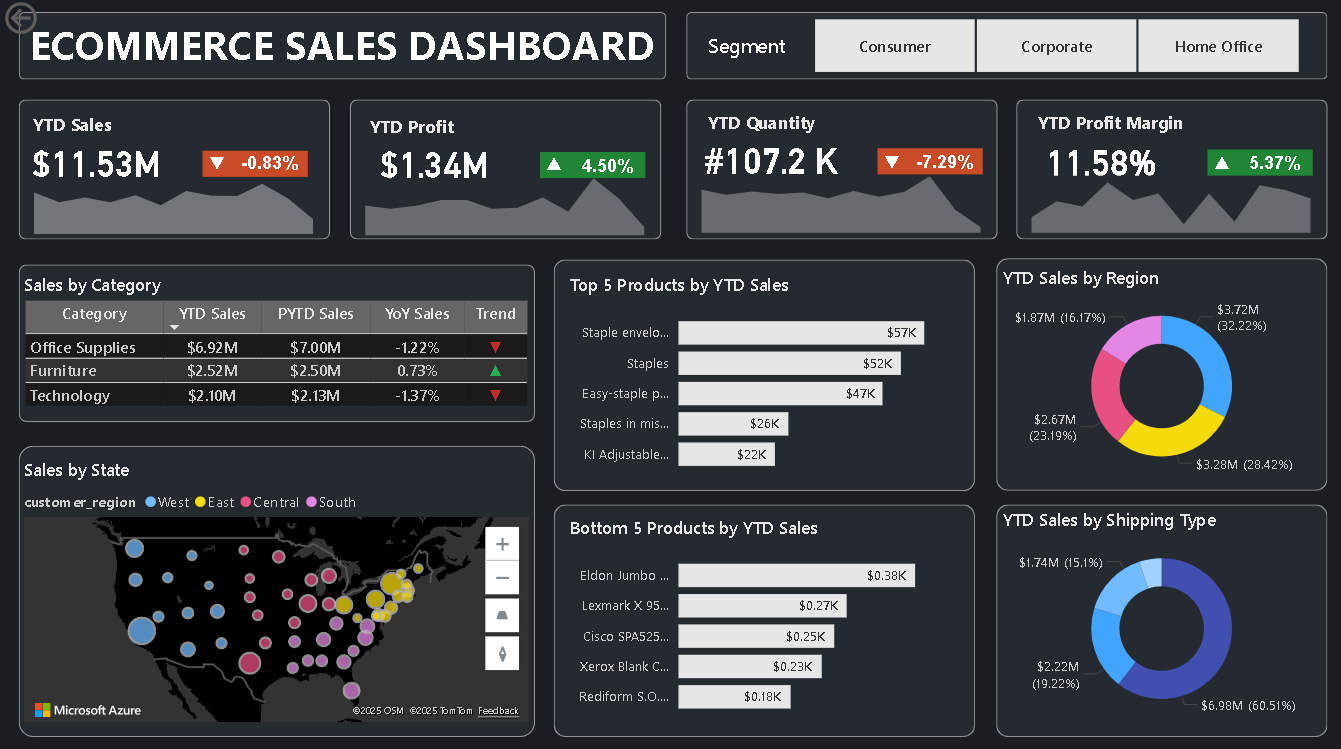

This screenshot's page, from the dashboard's own definition file:
{"tool":"powerbi","page":{"name":"Ecommerce Sales Dashboard","canvas":[1280,720],"ordinal":0},"visuals":[{"type":"shape","box":[17.8,14.2,615,64.1],"z":0},{"type":"textbox","box":[23.7,15.4,604.4,62.9],"z":1000},{"type":"shape","box":[17.8,97.4,295.7,133],"z":2000},{"type":"card","fields":{"Values":["ecommerce_data.YTD Sales"]},"box":[17.8,136.5,147.2,39.2],"z":3000},{"type":"areaChart","fields":{"Y":["Sum(ecommerce_data.sales_per_order)"],"Category":["Calendar.Month"]},"box":[17.8,155.5,294.5,74.8],"z":4000},{"type":"shape","box":[192.4,146,99.7,24.9],"z":5000},{"type":"actionButton","box":[0,0,100,40],"z":6000},{"type":"card","fields":{"Values":["ecommerce_data.YoY Sales"]},"box":[222,142.5,70.1,33.2],"z":7000},{"type":"card","fields":{"Values":["ecommerce_data.Sales Icon"]},"box":[192.4,144.9,27.3,26.1],"z":8000},{"type":"textbox","box":[26.1,104.5,100.9,32.1],"z":9000},{"type":"shape","box":[332.5,97.4,295.7,133],"z":10000},{"type":"card","fields":{"Values":["ecommerce_data.YTD Profit"]},"box":[338.4,138,147.2,39.2],"z":11000},{"type":"areaChart","fields":{"Category":["Calendar.Month"],"Y":["Sum(ecommerce_data.profit_per_order)"]},"box":[332.5,156.7,294.5,74.8],"z":12000},{"type":"shape","box":[513,147.5,99.7,24.9],"z":13000},{"type":"card","fields":{"Values":["ecommerce_data.YoY Profit"]},"box":[542.6,144.9,70.1,33.2],"z":14000},{"type":"card","fields":{"Values":["ecommerce_data.Profit Icon"]},"box":[512.9,144.9,27.3,26.1],"z":15000},{"type":"textbox","box":[346.7,105.9,100.9,32.1],"z":16000},{"type":"shape","box":[651.9,97.4,295.7,133],"z":17000},{"type":"card","fields":{"Values":["ecommerce_data.YTD Con Qty"]},"box":[659,134.7,147.2,39.2],"z":18000},{"type":"areaChart","fields":{"Category":["Calendar.Month"],"Y":["Sum(ecommerce_data.order_quantity)"]},"box":[651.9,154.4,294.5,74.8],"z":19000},{"type":"shape","box":[833.6,144.2,99.7,24.9],"z":20000},{"type":"card","fields":{"Values":["ecommerce_data.YoY Qty"]},"box":[863.2,141.6,70.1,33.2],"z":21000},{"type":"card","fields":{"Values":["ecommerce_data.Qty Icon"]},"box":[833.5,143.7,27.3,26.1],"z":22000},{"type":"textbox","box":[667.3,102.1,123.5,32.1],"z":23000},{"type":"shape","box":[965.3,97.4,295.7,133],"z":24000},{"type":"card","fields":{"Values":["ecommerce_data.YTD Profit Margin"]},"box":[972,135.2,147.2,39.2],"z":25000},{"type":"areaChart","fields":{"Category":["Calendar.Month"],"Y":["ecommerce_data.Profit Margin"]},"box":[965.3,154.4,294.5,74.8],"z":26000},{"type":"shape","box":[1146.6,144.7,99.7,24.9],"z":27000},{"type":"card","fields":{"Values":["ecommerce_data.YoY Profit Margin"]},"box":[1176.2,142.1,70.1,33.2],"z":28000},{"type":"card","fields":{"Values":["ecommerce_data.Profit Margin Icon"]},"box":[1147,143.7,27.3,26.1],"z":29000},{"type":"textbox","box":[980.8,102.1,166.2,32.1],"z":30000},{"type":"shape","box":[17.8,254.1,490.4,149.6],"z":31000},{"type":"tableEx","title":"Sales by Category","fields":{"Values":["ecommerce_data.category_name","ecommerce_data.YTD Sales","ecommerce_data.PYTD Sales","ecommerce_data.YoY Sales","ecommerce_data.Sales Icon"]},"box":[17.8,261.2,490.4,135.4],"z":32000},{"type":"shape","box":[17.8,426.3,490.4,276.7],"z":33000},{"type":"azureMap","title":"Sales by State","fields":{"X":["us_state_long_lat_codes.longitude"],"Y":["us_state_long_lat_codes.latitude"],"Size":["ecommerce_data.YTD Sales"],"Series":["ecommerce_data.customer_region"]},"box":[17.8,436.9,490.4,256.5],"z":34000},{"type":"shape","box":[526,249.3,400.1,220],"z":35000},{"type":"shape","box":[526,482.1,400.1,220.8],"z":36000},{"type":"barChart","title":"Top 5 Products by YTD Sales","fields":{"Category":["ecommerce_data.product_name"],"Y":["ecommerce_data.YTD Sales"]},"box":[536.5,260.7,378.7,201.7],"z":37000},{"type":"barChart","title":"Bottom 5 Products by YTD Sales","fields":{"Category":["ecommerce_data.product_name"],"Y":["ecommerce_data.YTD Sales"]},"box":[536.7,491.6,378.8,201.9],"z":38000},{"type":"shape","box":[946.3,248.2,314.6,220.8],"z":39000},{"type":"shape","box":[946.3,482.1,314.6,220.8],"z":40000},{"type":"donutChart","title":"YTD Sales by Region","fields":{"Y":["ecommerce_data.YTD Sales"],"Category":["ecommerce_data.customer_region"]},"box":[947.5,254.1,312.3,209],"z":41000},{"type":"donutChart","title":"YTD Sales by Shipping Type","fields":{"Y":["ecommerce_data.YTD Sales"],"Category":["ecommerce_data.shipping_type"]},"box":[947.5,484.4,312.3,209],"z":42000},{"type":"shape","box":[651.9,14.2,609.1,64.1],"z":43000},{"type":"slicer","fields":{"Values":["ecommerce_data.customer_segment"]},"box":[748,14.2,509.4,64.1],"z":44000},{"type":"textbox","box":[667.3,28.5,97.4,34.4],"z":46001}]}

Visuals, with their boxes in screenshot pixels (x1, y1, x2, y2), scaled from the page's 1280x720 canvas onto the 1341x749 screenshot:
shape: detection(19, 15, 663, 81)
textbox: detection(25, 16, 658, 81)
shape: detection(19, 101, 328, 240)
card - ecommerce_data.YTD Sales: detection(19, 142, 173, 183)
areaChart - Sum(ecommerce_data.sales_per_order) x Calendar.Month: detection(19, 162, 327, 240)
shape: detection(202, 152, 306, 178)
actionButton: detection(0, 0, 105, 42)
card - ecommerce_data.YoY Sales: detection(233, 148, 306, 183)
card - ecommerce_data.Sales Icon: detection(202, 151, 230, 178)
textbox: detection(27, 109, 133, 142)
shape: detection(348, 101, 658, 240)
card - ecommerce_data.YTD Profit: detection(355, 144, 509, 184)
areaChart - Calendar.Month x Sum(ecommerce_data.profit_per_order): detection(348, 163, 657, 241)
shape: detection(537, 153, 642, 179)
card - ecommerce_data.YoY Profit: detection(568, 151, 642, 185)
card - ecommerce_data.Profit Icon: detection(537, 151, 566, 178)
textbox: detection(363, 110, 469, 144)
shape: detection(683, 101, 993, 240)
card - ecommerce_data.YTD Con Qty: detection(690, 140, 845, 181)
areaChart - Calendar.Month x Sum(ecommerce_data.order_quantity): detection(683, 161, 992, 238)
shape: detection(873, 150, 978, 176)
card - ecommerce_data.YoY Qty: detection(904, 147, 978, 182)
card - ecommerce_data.Qty Icon: detection(873, 149, 902, 177)
textbox: detection(699, 106, 828, 140)
shape: detection(1011, 101, 1321, 240)
card - ecommerce_data.YTD Profit Margin: detection(1018, 141, 1173, 181)
areaChart - Calendar.Month x ecommerce_data.Profit Margin: detection(1011, 161, 1320, 238)
shape: detection(1201, 151, 1306, 176)
card - ecommerce_data.YoY Profit Margin: detection(1232, 148, 1306, 182)
card - ecommerce_data.Profit Margin Icon: detection(1202, 149, 1230, 177)
textbox: detection(1028, 106, 1202, 140)
shape: detection(19, 264, 532, 420)
"Sales by Category" tableEx: detection(19, 272, 532, 413)
shape: detection(19, 443, 532, 731)
"Sales by State" azureMap: detection(19, 454, 532, 721)
shape: detection(551, 259, 970, 488)
shape: detection(551, 502, 970, 731)
"Top 5 Products by YTD Sales" barChart: detection(562, 271, 959, 481)
"Bottom 5 Products by YTD Sales" barChart: detection(562, 511, 959, 721)
shape: detection(991, 258, 1321, 488)
shape: detection(991, 502, 1321, 731)
"YTD Sales by Region" donutChart: detection(993, 264, 1320, 482)
"YTD Sales by Shipping Type" donutChart: detection(993, 504, 1320, 721)
shape: detection(683, 15, 1321, 81)
slicer - ecommerce_data.customer_segment: detection(784, 15, 1317, 81)
textbox: detection(699, 30, 801, 65)
